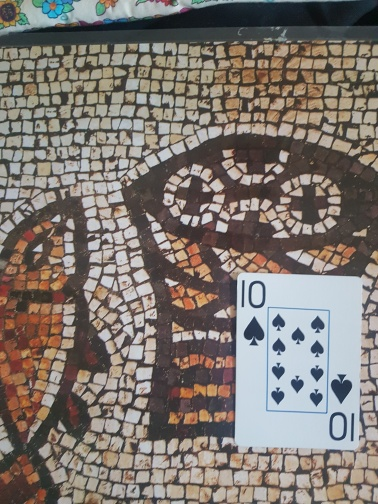ten: (237, 272, 361, 452)
